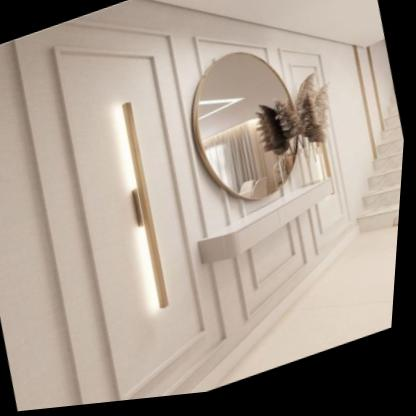Futec frame: (10, 18, 237, 407)
